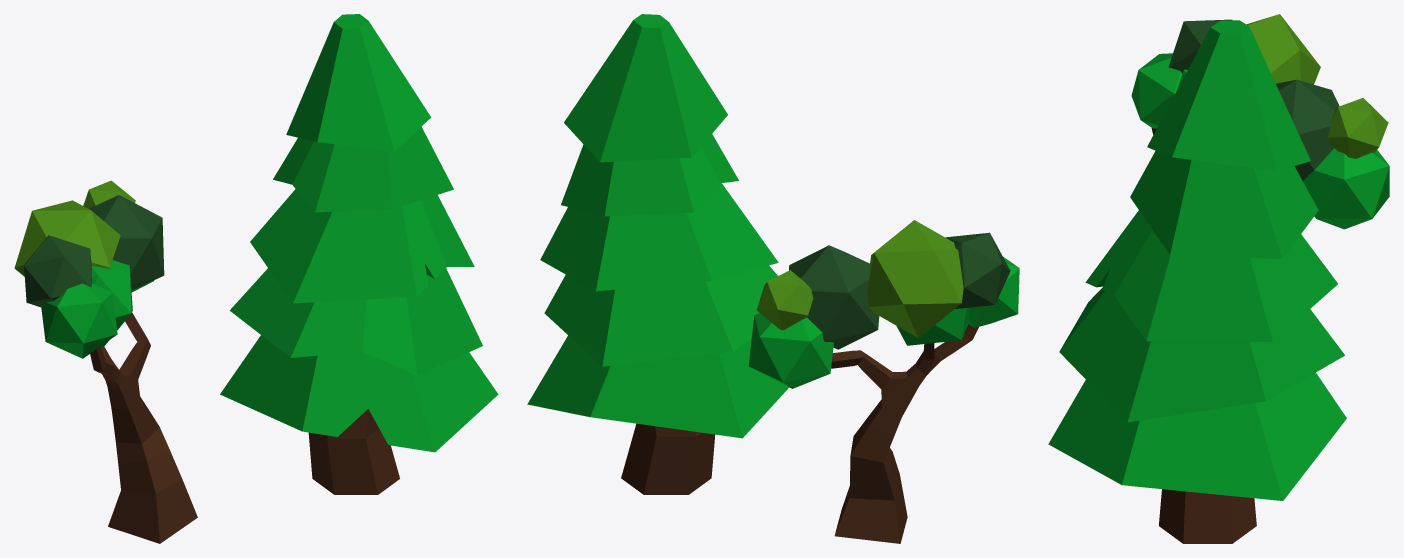
Rendered from lowpoly_trees.fbx.
3 views of the same model, side by side, from view 1: azimuth 30°, elevation 25°; view 2: azimuth 150°, elevation 25°; view 3: azimuth 270°, elevation 25° (orthographic). The views are drawn at different scales.
Parts seen in each view (by area): view 1: Cylinder.005, Cube, Icosphere.002, Icosphere.004, Icosphere.001, Icosphere.005, Icosphere.003, Icosphere.006; view 2: Cylinder.005, Cube, Icosphere.004, Icosphere.001, Icosphere, Icosphere.005, Icosphere.006, Icosphere.002, Icosphere.003; view 3: Cylinder.005, Icosphere, Icosphere.001, Icosphere.004, Icosphere.006, Icosphere.002, Icosphere.005.
Part boxes in pixels (x1,y1,x2,y2): Cylinder.005: (220, 14, 498, 494); Cube: (90, 312, 197, 543); Icosphere.002: (41, 283, 117, 358); Icosphere.004: (14, 200, 120, 276); Icosphere.001: (89, 195, 164, 290); Icosphere.005: (24, 235, 91, 307); Icosphere.003: (91, 260, 132, 347); Icosphere.006: (83, 180, 135, 208); Cylinder.005: (527, 14, 788, 494); Cube: (831, 324, 978, 543); Icosphere.004: (867, 220, 963, 338); Icosphere.001: (789, 245, 879, 349); Icosphere: (748, 313, 833, 388); Icosphere.005: (945, 232, 1010, 308); Icosphere.006: (756, 270, 813, 330); Icosphere.002: (968, 256, 1019, 327); Icosphere.003: (896, 307, 969, 345); Cylinder.005: (1048, 20, 1346, 543); Icosphere: (1303, 148, 1389, 229); Icosphere.001: (1276, 79, 1339, 181); Icosphere.004: (1246, 14, 1320, 84); Icosphere.006: (1328, 98, 1388, 158); Icosphere.002: (1131, 53, 1182, 128); Icosphere.005: (1168, 19, 1232, 73).
Size of the model in its own units: 834 by 829 by 510.
